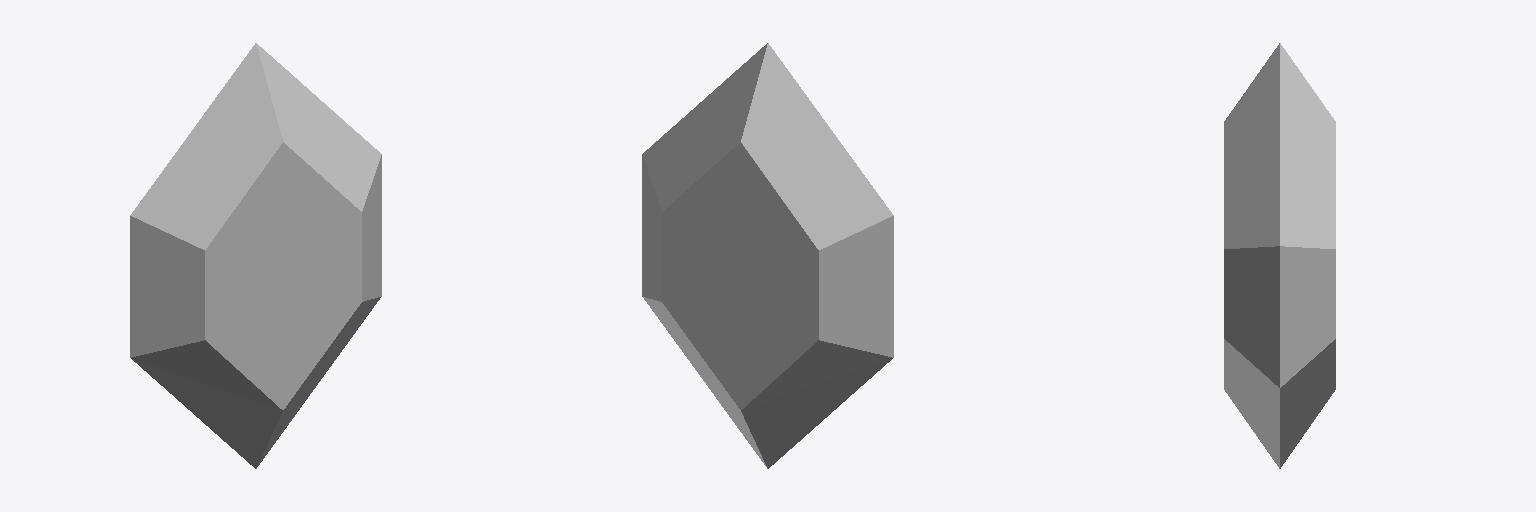
The model's file is sand2.obj.
3 views of the same model, side by side, from view 1: azimuth 30°, elevation 25°; view 2: azimuth 150°, elevation 25°; view 3: azimuth 270°, elevation 25° (orthographic).
Visible parts, largest first — view 1: 1.92_Material.001_0; view 2: 1.92_Material.001_0; view 3: 1.92_Material.001_0.
Boxes of the visible parts, x1,y1,x2,y2 form: 1.92_Material.001_0: [130, 43, 381, 468]; 1.92_Material.001_0: [642, 43, 893, 468]; 1.92_Material.001_0: [1224, 43, 1335, 468].
Size of the model in its own units: 1.29 by 2.1 by 0.4939.